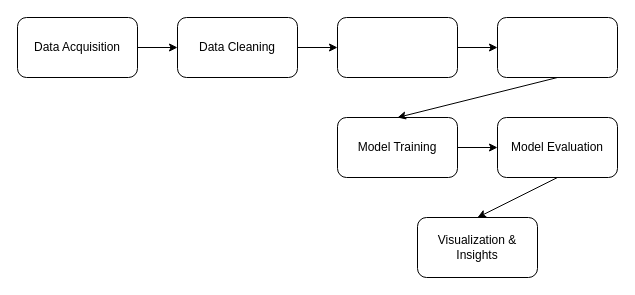
Some shapes in this 635 by 295 pixel diagram are drawn without their labels. The box of each missing label's shape, as (x1, y1, x2, y2) in pixels:
EDA: (336, 16, 458, 78)
Feature Engineering: (496, 16, 618, 78)
